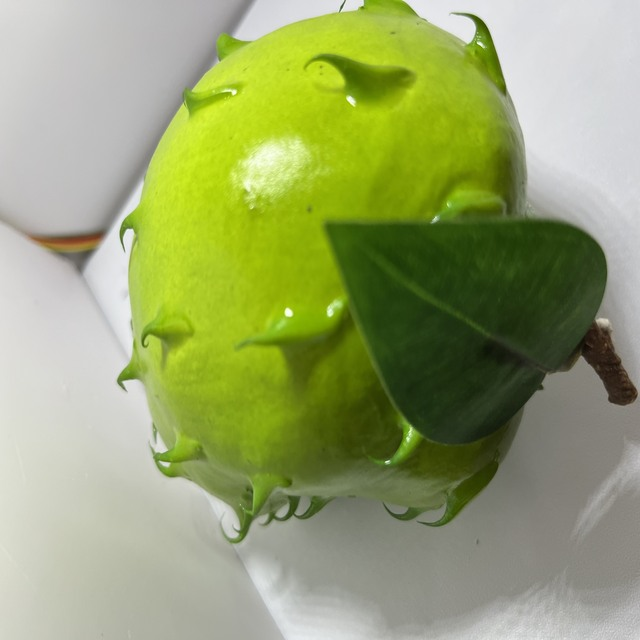Man cau: (99, 0, 552, 554)
